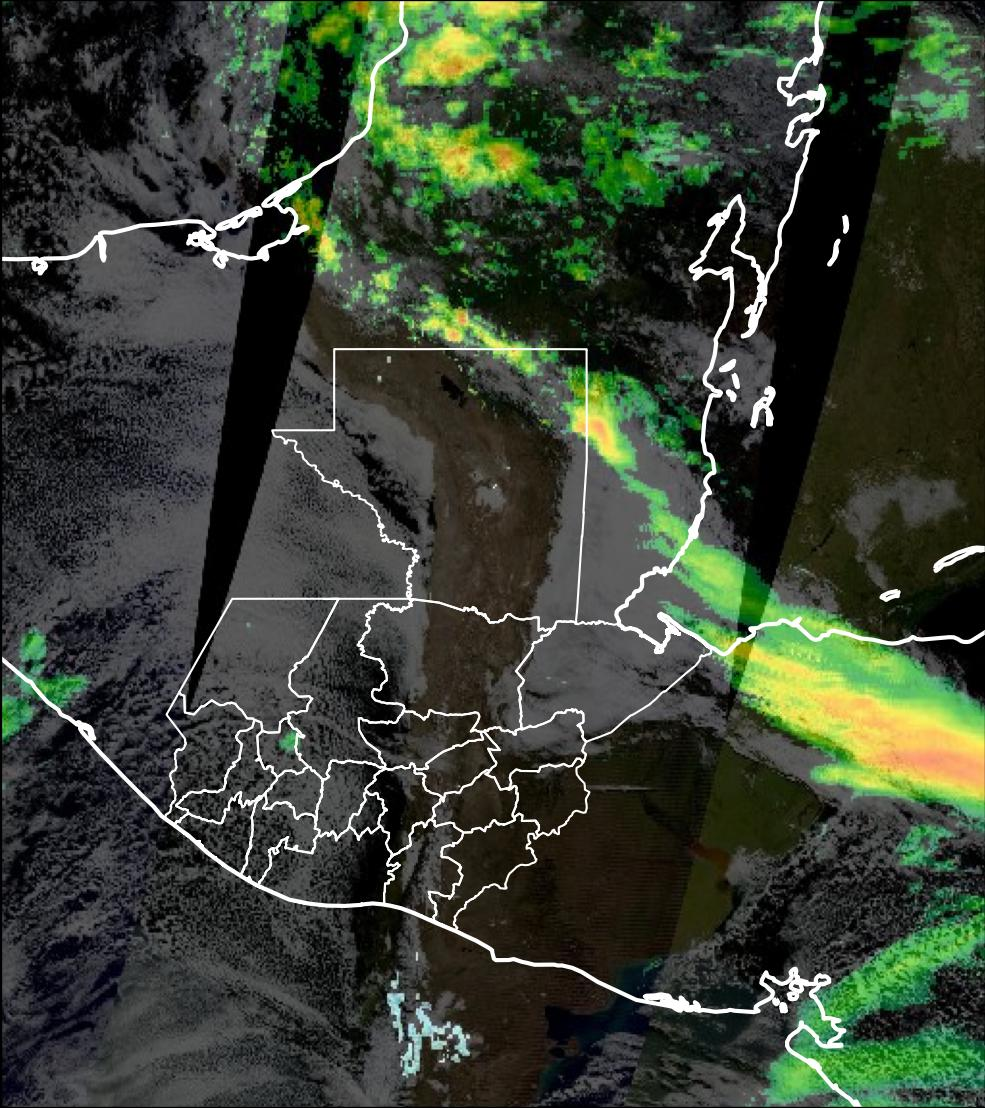precipitacion: (828, 698, 985, 807)
